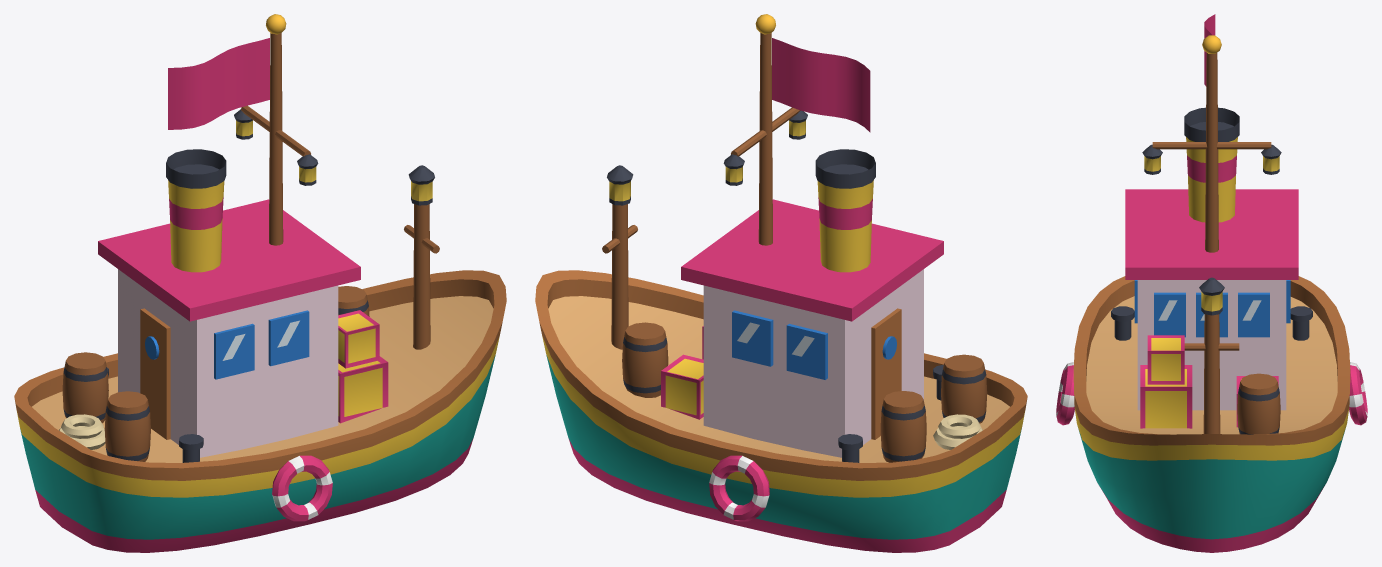
Rendered from cel-shaded-fiesta.glb.
3 views of the same model, side by side, from view 1: azimuth 30°, elevation 25°; view 2: azimuth 150°, elevation 25°; view 3: azimuth 270°, elevation 25° (orthographic). The views are drawn at different scales.
Parts seen in each view (by area): view 1: hull, cabin, cargo, rigging, flag; view 2: hull, cabin, cargo, rigging, flag; view 3: hull, cabin, cargo, rigging, glints.
Boxes of the visible parts, x1=… form: hull: x1=14, y1=270, x2=506, y2=552; cabin: x1=98, y1=149, x2=360, y2=457; cargo: x1=59, y1=286, x2=388, y2=521; rigging: x1=234, y1=14, x2=439, y2=349; flag: x1=168, y1=38, x2=269, y2=129; hull: x1=535, y1=270, x2=1027, y2=552; cabin: x1=681, y1=149, x2=943, y2=457; cargo: x1=622, y1=322, x2=987, y2=521; rigging: x1=602, y1=14, x2=807, y2=349; flag: x1=772, y1=38, x2=870, y2=132; hull: x1=1073, y1=276, x2=1350, y2=552; cabin: x1=1125, y1=107, x2=1298, y2=410; cargo: x1=1056, y1=306, x2=1367, y2=434; rigging: x1=1142, y1=35, x2=1281, y2=433; glints: x1=1158, y1=300, x2=1261, y2=320.
Size of the model in its own units: 2 by 1.93 by 1.26.
